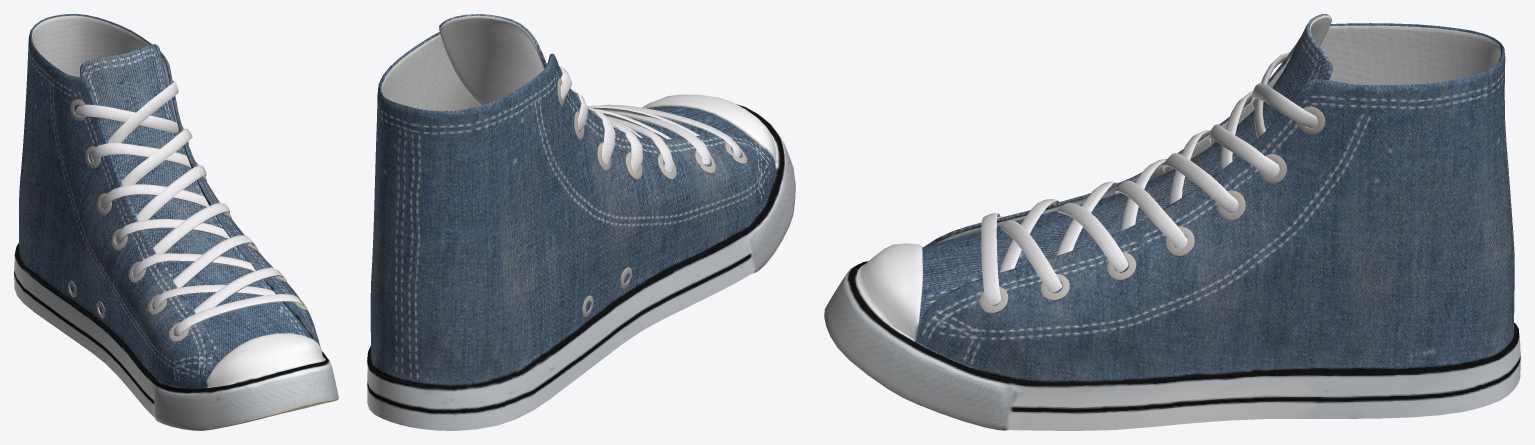
The model's file is converse_fbx.fbx.
The picture shows the model from 3 angles, left to right: view 1: azimuth 30°, elevation 25°; view 2: azimuth 150°, elevation 25°; view 3: azimuth 270°, elevation 25°; orthographic projection. The views are drawn at different scales.
Visible parts, largest first — view 1: converse, conv_tongue, laces; view 2: converse, conv_tongue, laces; view 3: converse, laces, conv_tongue.
Part boxes in pixels (bbox=[...]): converse: bbox=[14, 14, 338, 430]; conv_tongue: bbox=[80, 44, 311, 370]; laces: bbox=[75, 81, 302, 335]; converse: bbox=[367, 32, 795, 430]; conv_tongue: bbox=[439, 14, 755, 142]; laces: bbox=[546, 63, 740, 172]; converse: bbox=[824, 23, 1520, 430]; laces: bbox=[981, 52, 1317, 305]; conv_tongue: bbox=[919, 14, 1333, 322].
Size of the model in its own units: 934 by 1436 by 2562.
3 materials, 2 textured.
